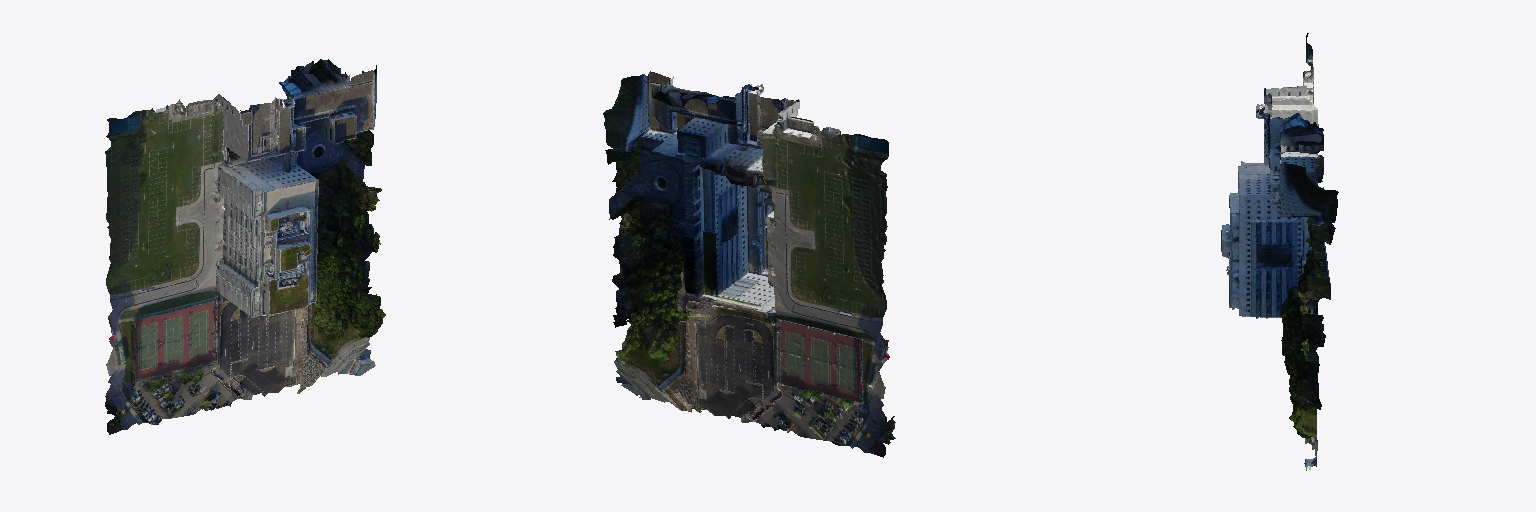
3 renders of one model, left to right at view 1: azimuth 30°, elevation 25°; view 2: azimuth 150°, elevation 25°; view 3: azimuth 270°, elevation 25°, orthographic.
Parts seen in each view (by area): view 1: tile_1_0_16_obj_0, tile_1_0_0_obj_0, tile_1_16_16_obj_0, tile_1_16_0_obj_0; view 2: tile_1_16_16_obj_0, tile_1_16_0_obj_0, tile_1_0_0_obj_0, tile_1_0_16_obj_0; view 3: tile_1_16_16_obj_0, tile_1_16_0_obj_0, tile_1_0_16_obj_0.
Boxes of the visible parts, x1,y1,x2,y2 form: tile_1_0_16_obj_0: [105, 94, 285, 276]; tile_1_0_0_obj_0: [105, 248, 281, 434]; tile_1_16_16_obj_0: [235, 59, 381, 273]; tile_1_16_0_obj_0: [241, 212, 385, 399]; tile_1_16_16_obj_0: [603, 71, 773, 255]; tile_1_16_0_obj_0: [612, 231, 773, 422]; tile_1_0_0_obj_0: [751, 272, 895, 457]; tile_1_0_16_obj_0: [746, 98, 888, 299]; tile_1_16_16_obj_0: [1221, 104, 1338, 319]; tile_1_16_0_obj_0: [1226, 266, 1325, 470]; tile_1_0_16_obj_0: [1222, 33, 1323, 227].
Bounding box in the file's own units: 155 × 175 × 57.77.
4 materials, 4 textured.